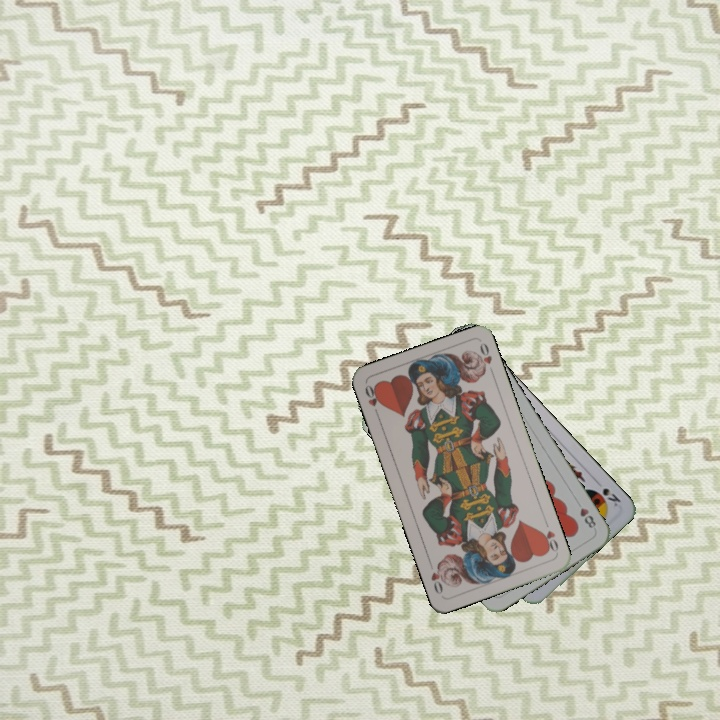H8: (572, 496, 599, 531)
HO: (537, 517, 561, 556), (361, 381, 384, 419)
SK: (591, 484, 624, 509)
